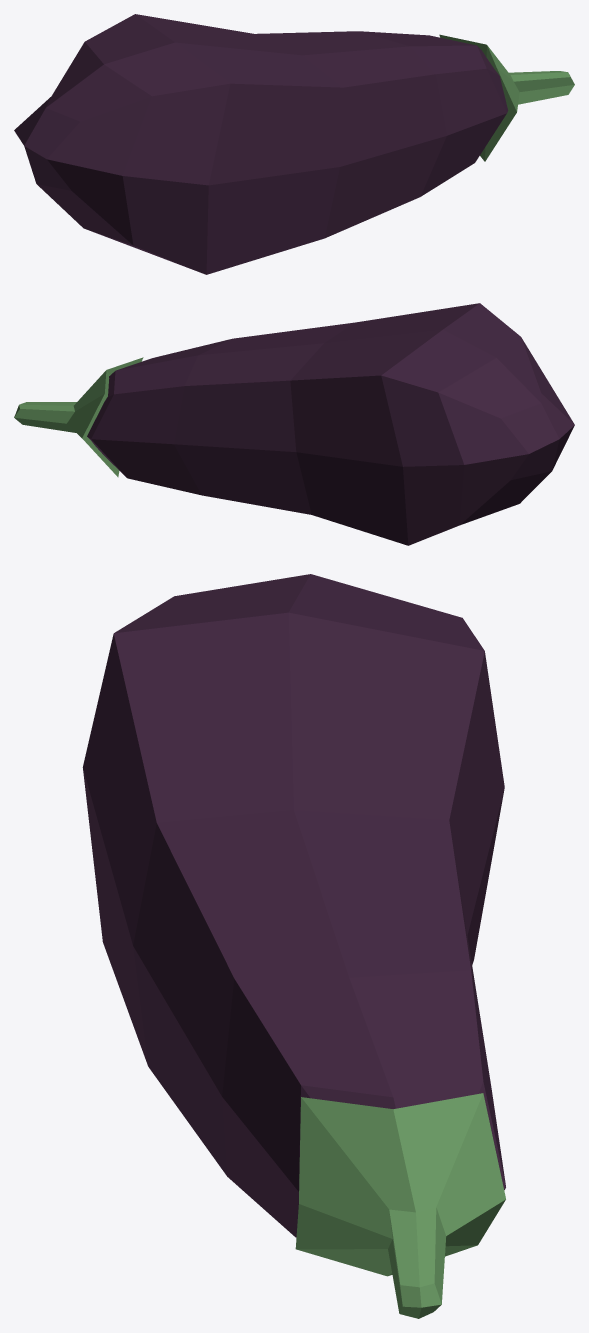
Rendered from eggplantWithStem.fbx.
3 views of the same model, one above another, from view 1: azimuth 30°, elevation 25°; view 2: azimuth 150°, elevation 25°; view 3: azimuth 270°, elevation 25° (orthographic). The views are drawn at different scales.
Parts seen in each view (by area): view 1: eggplantWithStem; view 2: eggplantWithStem; view 3: eggplantWithStem.
Part boxes in pixels (x1,y1,x2,y2): eggplantWithStem: [14, 14, 574, 274]; eggplantWithStem: [14, 303, 574, 545]; eggplantWithStem: [82, 574, 505, 1318].
Bounding box in the file's own units: 31.67 × 10.92 × 11.15.
Materials: 1 (1 with a texture image).
